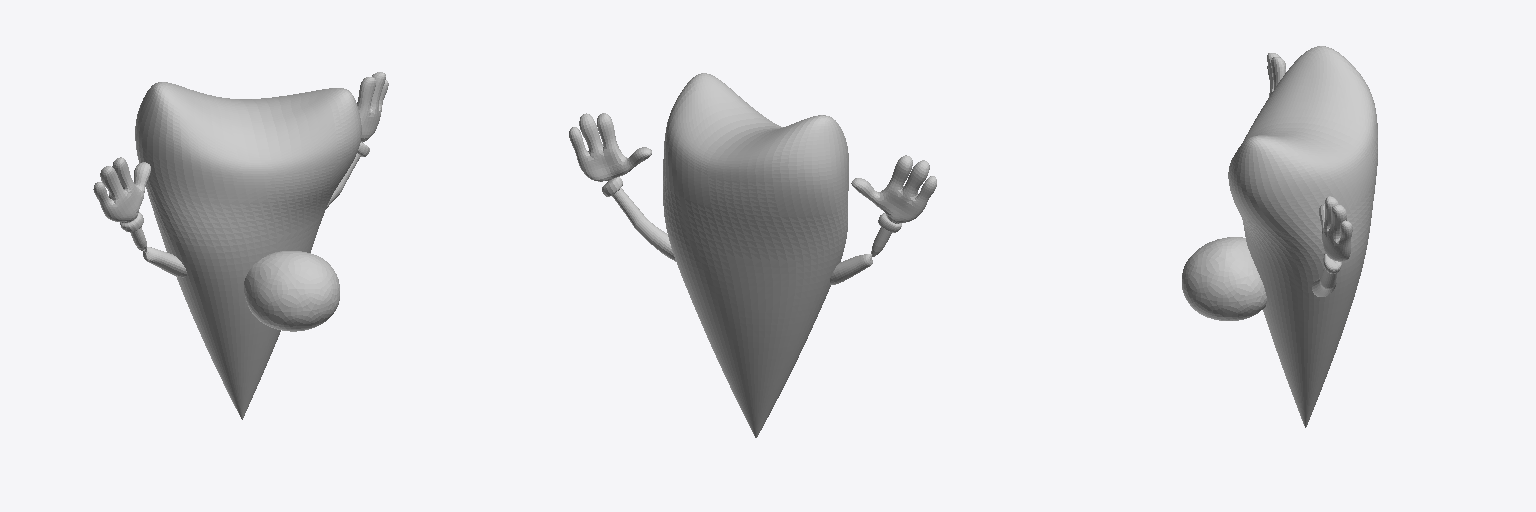
The model's file is java-duke10.obj.
3 renders of one model, left to right at view 1: azimuth 30°, elevation 25°; view 2: azimuth 150°, elevation 25°; view 3: azimuth 270°, elevation 25°, orthographic.
Parts seen in each view (by area): view 1: javadude, javadude_nase, javadude_hands; view 2: javadude, javadude_hands; view 3: javadude, javadude_nase, javadude_hands.
Part boxes in pixels (bbox=[...]): javadude: bbox=[135, 82, 361, 419]; javadude_nase: bbox=[244, 251, 339, 331]; javadude_hands: bbox=[93, 72, 388, 277]; javadude: bbox=[663, 73, 848, 437]; javadude_hands: bbox=[569, 113, 936, 284]; javadude: bbox=[1228, 46, 1377, 427]; javadude_nase: bbox=[1182, 237, 1266, 320]; javadude_hands: bbox=[1267, 53, 1352, 296].
Bounding box in the file's own units: 4.03 × 4.04 × 2.08.